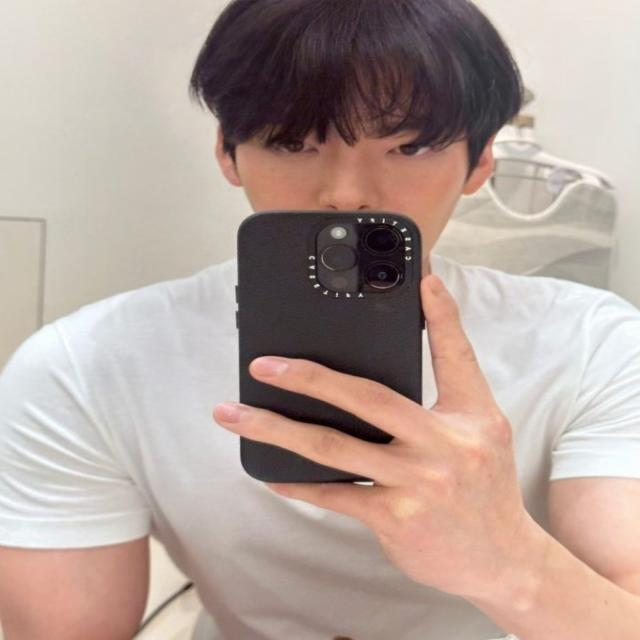phone: (235, 211, 426, 483)
